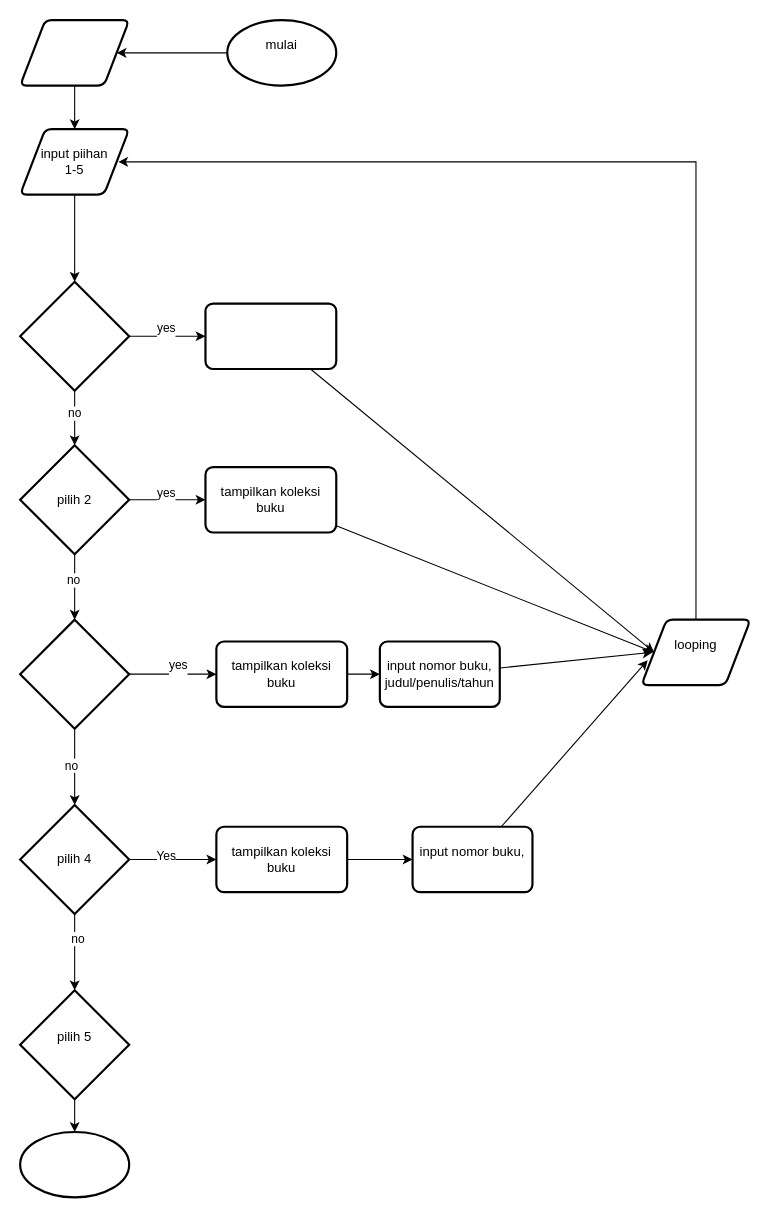
Some shapes in this 770 by 1216 pixel diagram are drawn without their labels. Here are the shapes that lost their labels. From the top down, the centre of each, then its label:
At point 74,52: "tampilkan data".
At point 74,335: "pilih 1".
At point 270,336: "input judul,penulis,tahun".
At point 74,673: "pilih 3".
At point 74,1164: "tampilkan pesan kluar".
